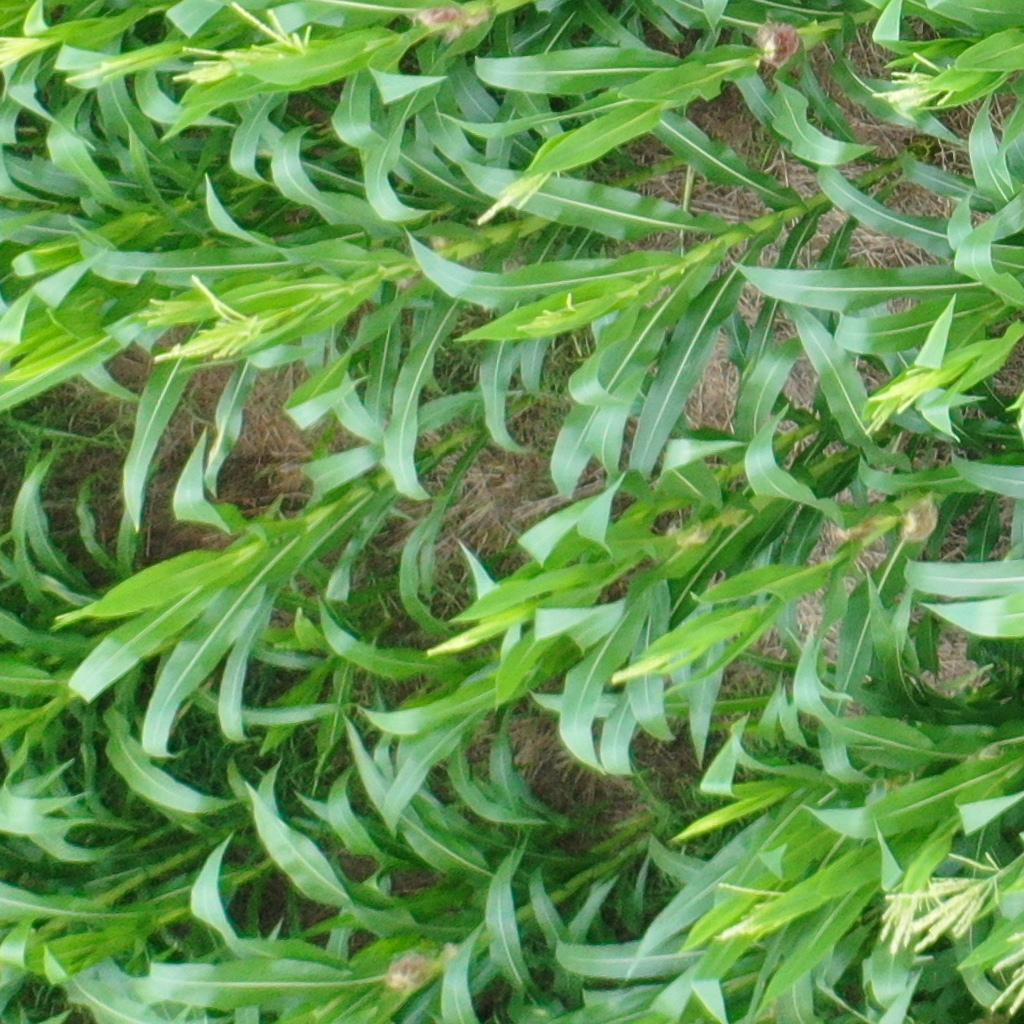Tassel: (884, 848, 1005, 951), (153, 273, 265, 366), (707, 877, 797, 941), (862, 359, 936, 436), (872, 46, 954, 113), (474, 165, 559, 222), (228, 1, 314, 56), (167, 41, 264, 82), (985, 924, 1022, 1017), (879, 883, 923, 954), (515, 295, 581, 339), (61, 56, 132, 88), (1, 32, 54, 72), (133, 297, 197, 326)
